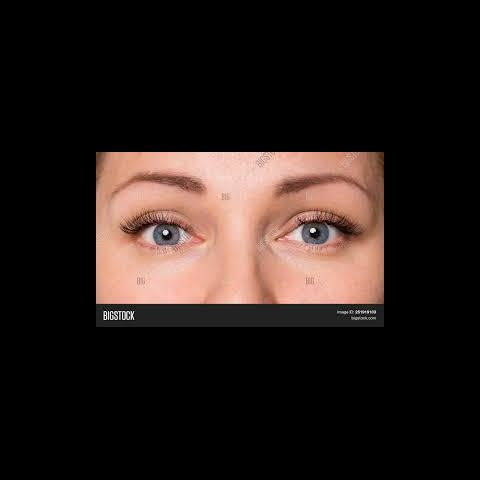opened: (119, 167, 360, 261)
